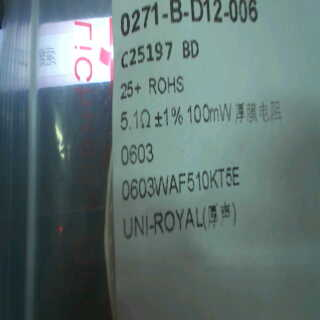5.1R: (115, 106, 154, 135)
